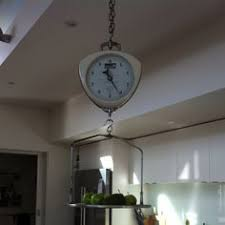Industrial Scale: (65, 1, 154, 218)
